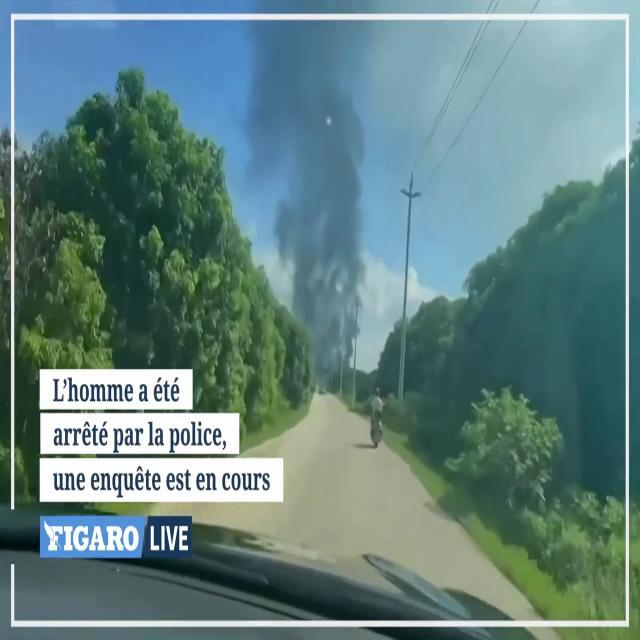Smoke: (236, 19, 378, 363)
